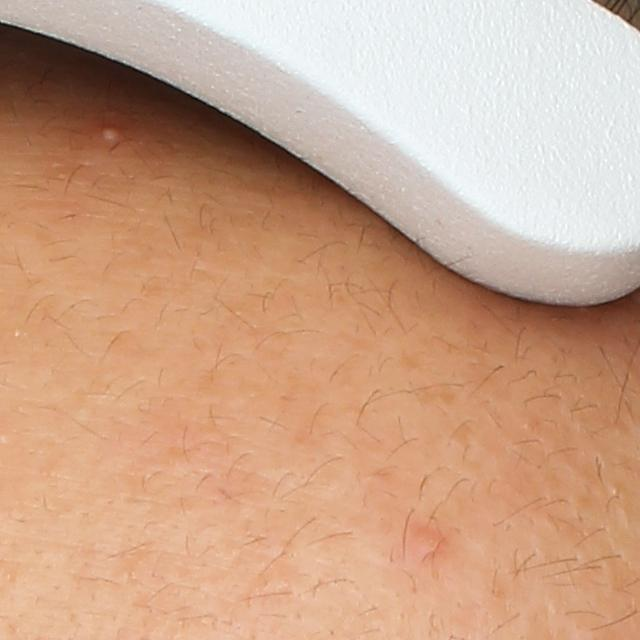papule: (406, 523, 448, 556)
pustule: (96, 120, 130, 151)
